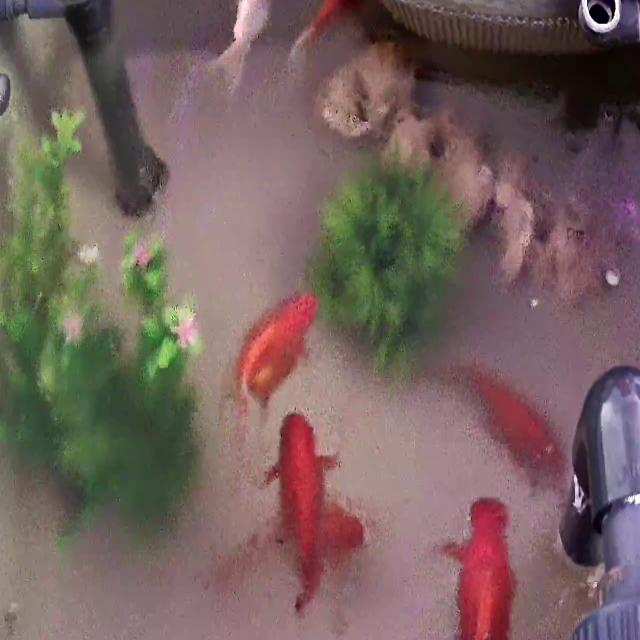fish: (454, 368, 567, 480), (437, 494, 515, 640), (267, 407, 326, 592), (234, 288, 318, 408), (204, 0, 277, 101), (299, 502, 365, 611), (303, 0, 364, 53)
